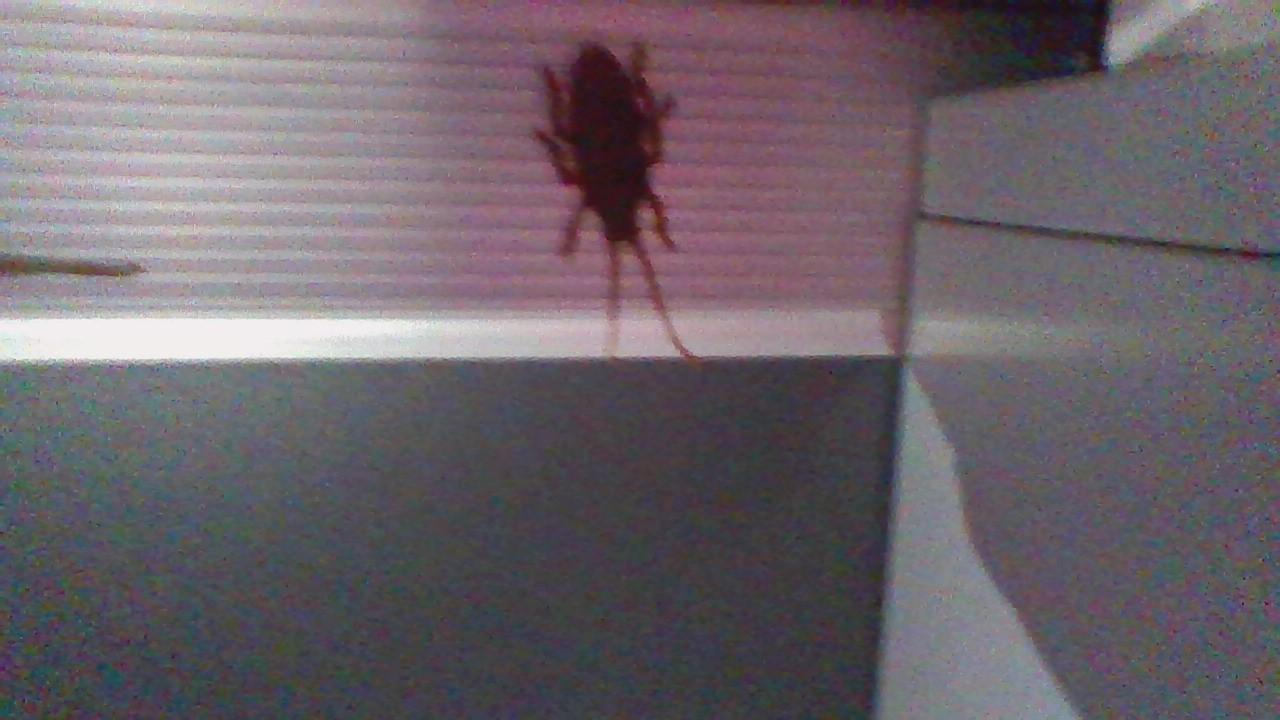cockroach: (517, 10, 729, 388)
